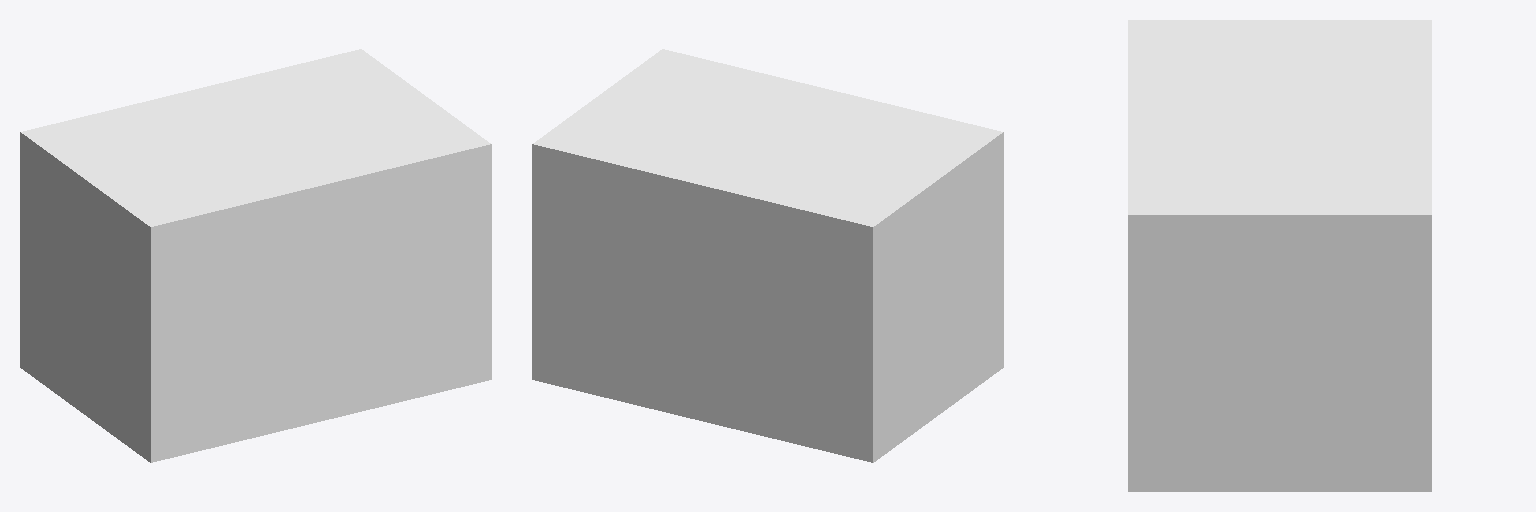
robot.urdf — spam.urdf:
<?xml version="1.0" ?>
<robot name="spam.urdf">
  <link name="spam">
    <contact>
      <lateral_friction value="0.5"/>
      <rolling_friction value="0.0"/>
      <contact_cfm value="0.0"/>
      <contact_erp value="1.0"/>
    </contact>
    <inertial>
      <origin rpy="0 0 0" xyz="0.0 0.02 0.0"/>
       <mass value=".5"/>
       <inertia ixx="1" ixy="0" ixz="0" iyy="1" iyz="0" izz="1"/>
    </inertial>
    <visual>
      <origin rpy="0 0 0" xyz="0 0 0"/>
      <geometry>
        <!-- <mesh filename="roboverse/envs/assets/objects/spam/spam.obj" scale="1 1 1"/> -->
        <!--<mesh filename="roboverse_assets/objects/spam/spam.obj" scale="1 1 1"/>-->
        <box size="2.95 1.95 1.95"/>
        <!-- <mesh filename="[local-path]/Desktop/spam.obj" scale="1 1 1"/> -->
      </geometry>
       <material name="white">
        <color rgba="1 1 1 1"/>
      </material>
    </visual>
    <collision>
      <origin rpy="0 0 0" xyz="0 0 0"/>
      <geometry>
	 	   <!-- <mesh filename="[local-path]/Desktop/" scale=".05 .05 .05"/> -->
       <box size="2.95 1.95 1.95"/>
      </geometry>
    </collision>
  </link>
</robot>

--- What the picture shows (computed from the rendered views, not written in the file) ---
The picture shows the robot from 3 angles, left to right: view 1: azimuth 30°, elevation 25°; view 2: azimuth 150°, elevation 25°; view 3: azimuth 270°, elevation 25°; orthographic projection.
Robot: spam.urdf — 1 links, 0 joints (none); root link spam; default pose: all joints at 0.
Links seen in each view (by area): view 1: spam; view 2: spam; view 3: spam.
Boxes of the visible links, left/top/right/bottom form: spam: left=20, top=49, right=491, bottom=462; spam: left=532, top=49, right=1003, bottom=462; spam: left=1128, top=20, right=1431, bottom=491.
Bounding box of the posed robot: 2.95 × 1.95 × 1.95 m (x, y, z).
Geometry: primitives only (box / cylinder / sphere), no mesh files.